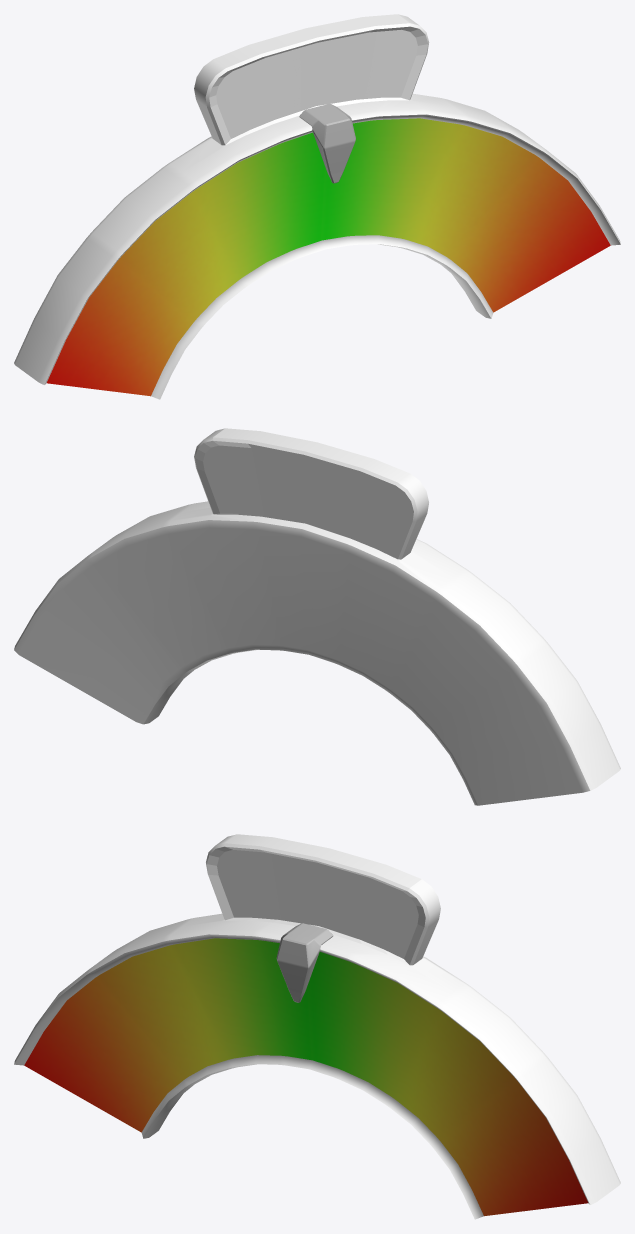
The model's file is powerBar.fbx.
The picture shows the model from 3 angles, top to bottom: view 1: azimuth 30°, elevation 25°; view 2: azimuth 150°, elevation 25°; view 3: azimuth 330°, elevation 25°; orthographic projection.
Parts seen in each view (by area): view 1: powerBar, Indicator; view 2: powerBar; view 3: powerBar, Indicator.
Boxes of the visible parts, x1,y1,x2,y2 form: powerBar: (14, 14, 620, 399); Indicator: (299, 104, 355, 183); powerBar: (14, 428, 620, 805); powerBar: (14, 834, 620, 1219); Indicator: (276, 923, 333, 1002).
Bounding box in the file's own units: 13.79 × 7.18 × 1.65.
1 material, 1 textured.
